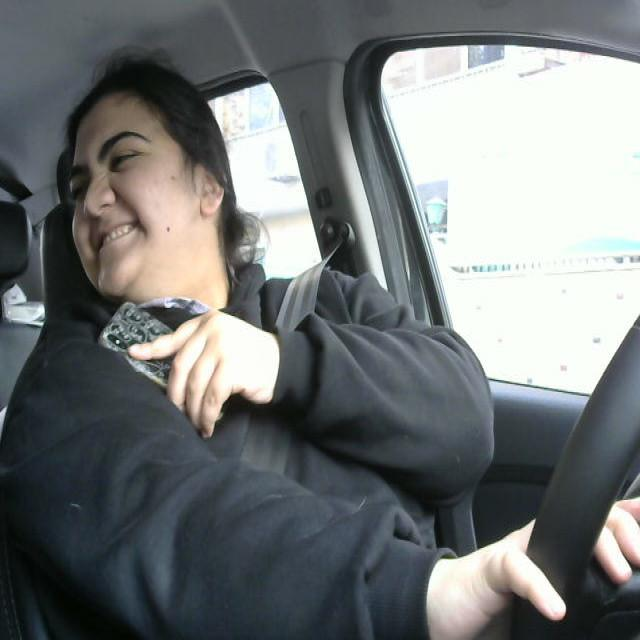mobile use: (103, 287, 192, 408)
